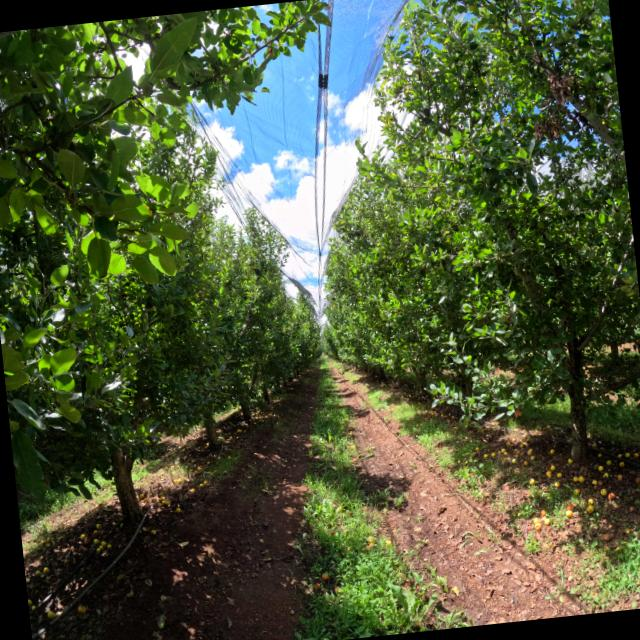-FireBlight-: (534, 98, 563, 140), (543, 68, 574, 107), (505, 312, 512, 323)
